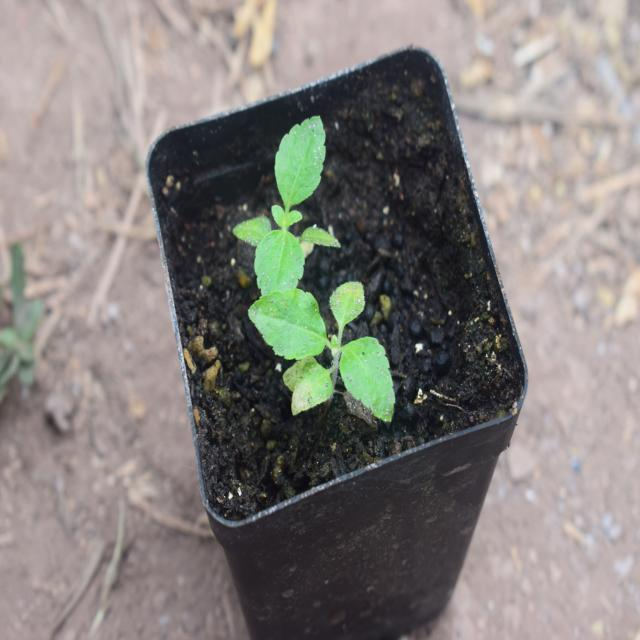billygoat_weed: (252, 280, 406, 422), (235, 89, 332, 298)
